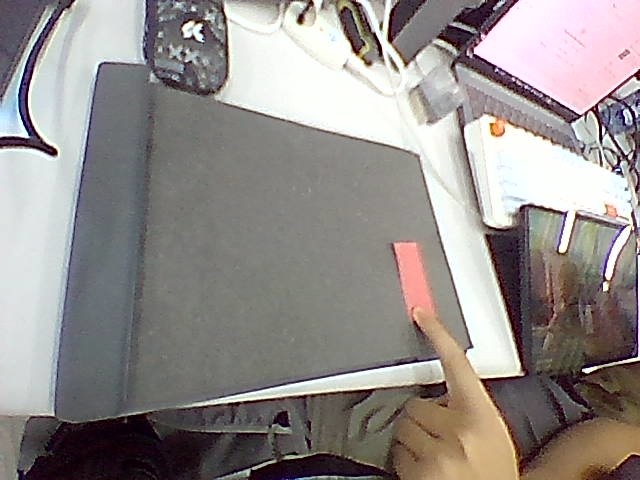card: (393, 242, 434, 317)
